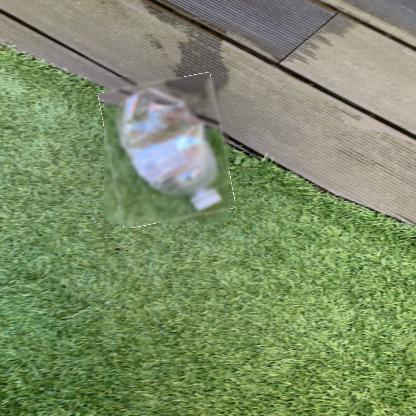plastic-bottles: (104, 77, 230, 224)
